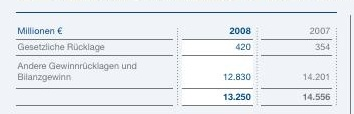table: (0, 0, 354, 114)
